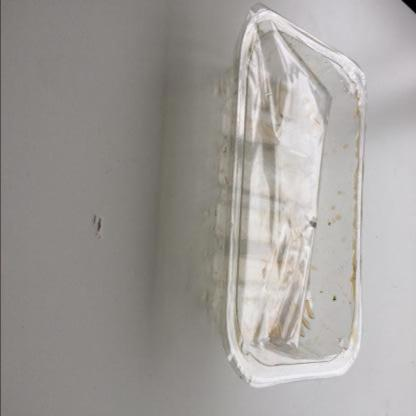Plastic bag - wrapper: (220, 2, 352, 386)
Plastic container: (209, 8, 366, 387)
